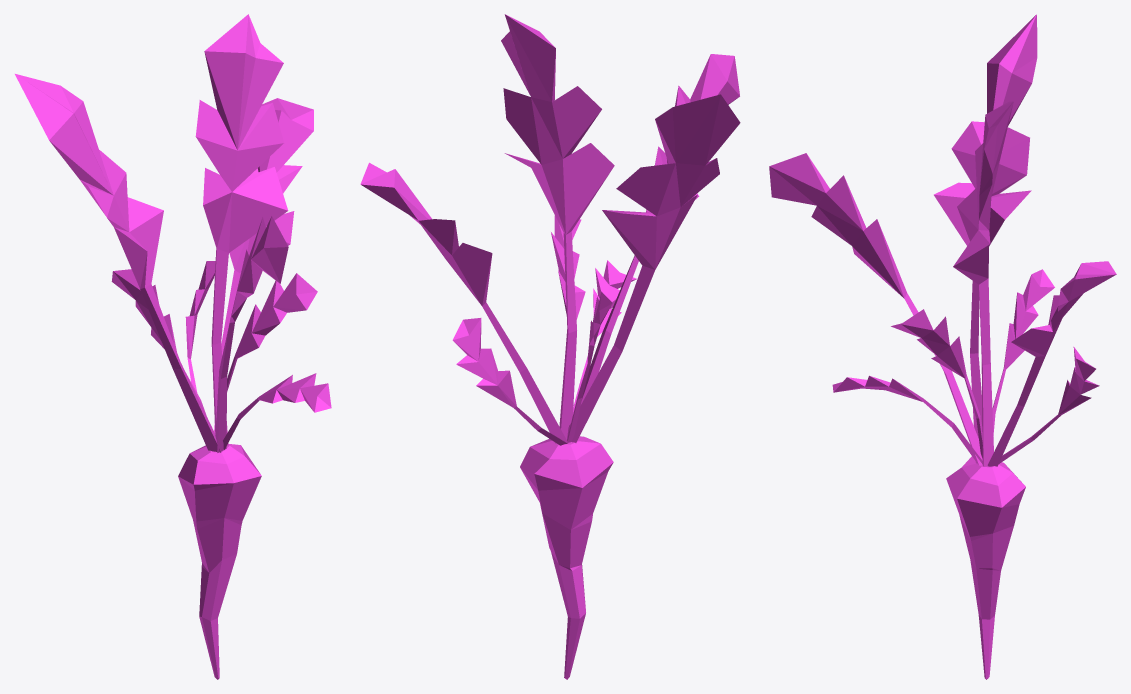
Rendered from SM_Parsnip_Plant_Ripe_Root_B.fbx.
3 views of the same model, side by side, from view 1: azimuth 30°, elevation 25°; view 2: azimuth 150°, elevation 25°; view 3: azimuth 270°, elevation 25° (orthographic). The views are drawn at different scales.
Parts seen in each view (by area): view 1: SM_Parsnip_Plant_Ripe_Root_B; view 2: SM_Parsnip_Plant_Ripe_Root_B; view 3: SM_Parsnip_Plant_Ripe_Root_B.
Boxes of the visible parts, x1=… form: SM_Parsnip_Plant_Ripe_Root_B: x1=15, y1=14, x2=331, y2=679; SM_Parsnip_Plant_Ripe_Root_B: x1=360, y1=14, x2=740, y2=679; SM_Parsnip_Plant_Ripe_Root_B: x1=769, y1=14, x2=1116, y2=679.
Bounding box in the file's own units: 0.5726 × 1.1 × 0.5789.
